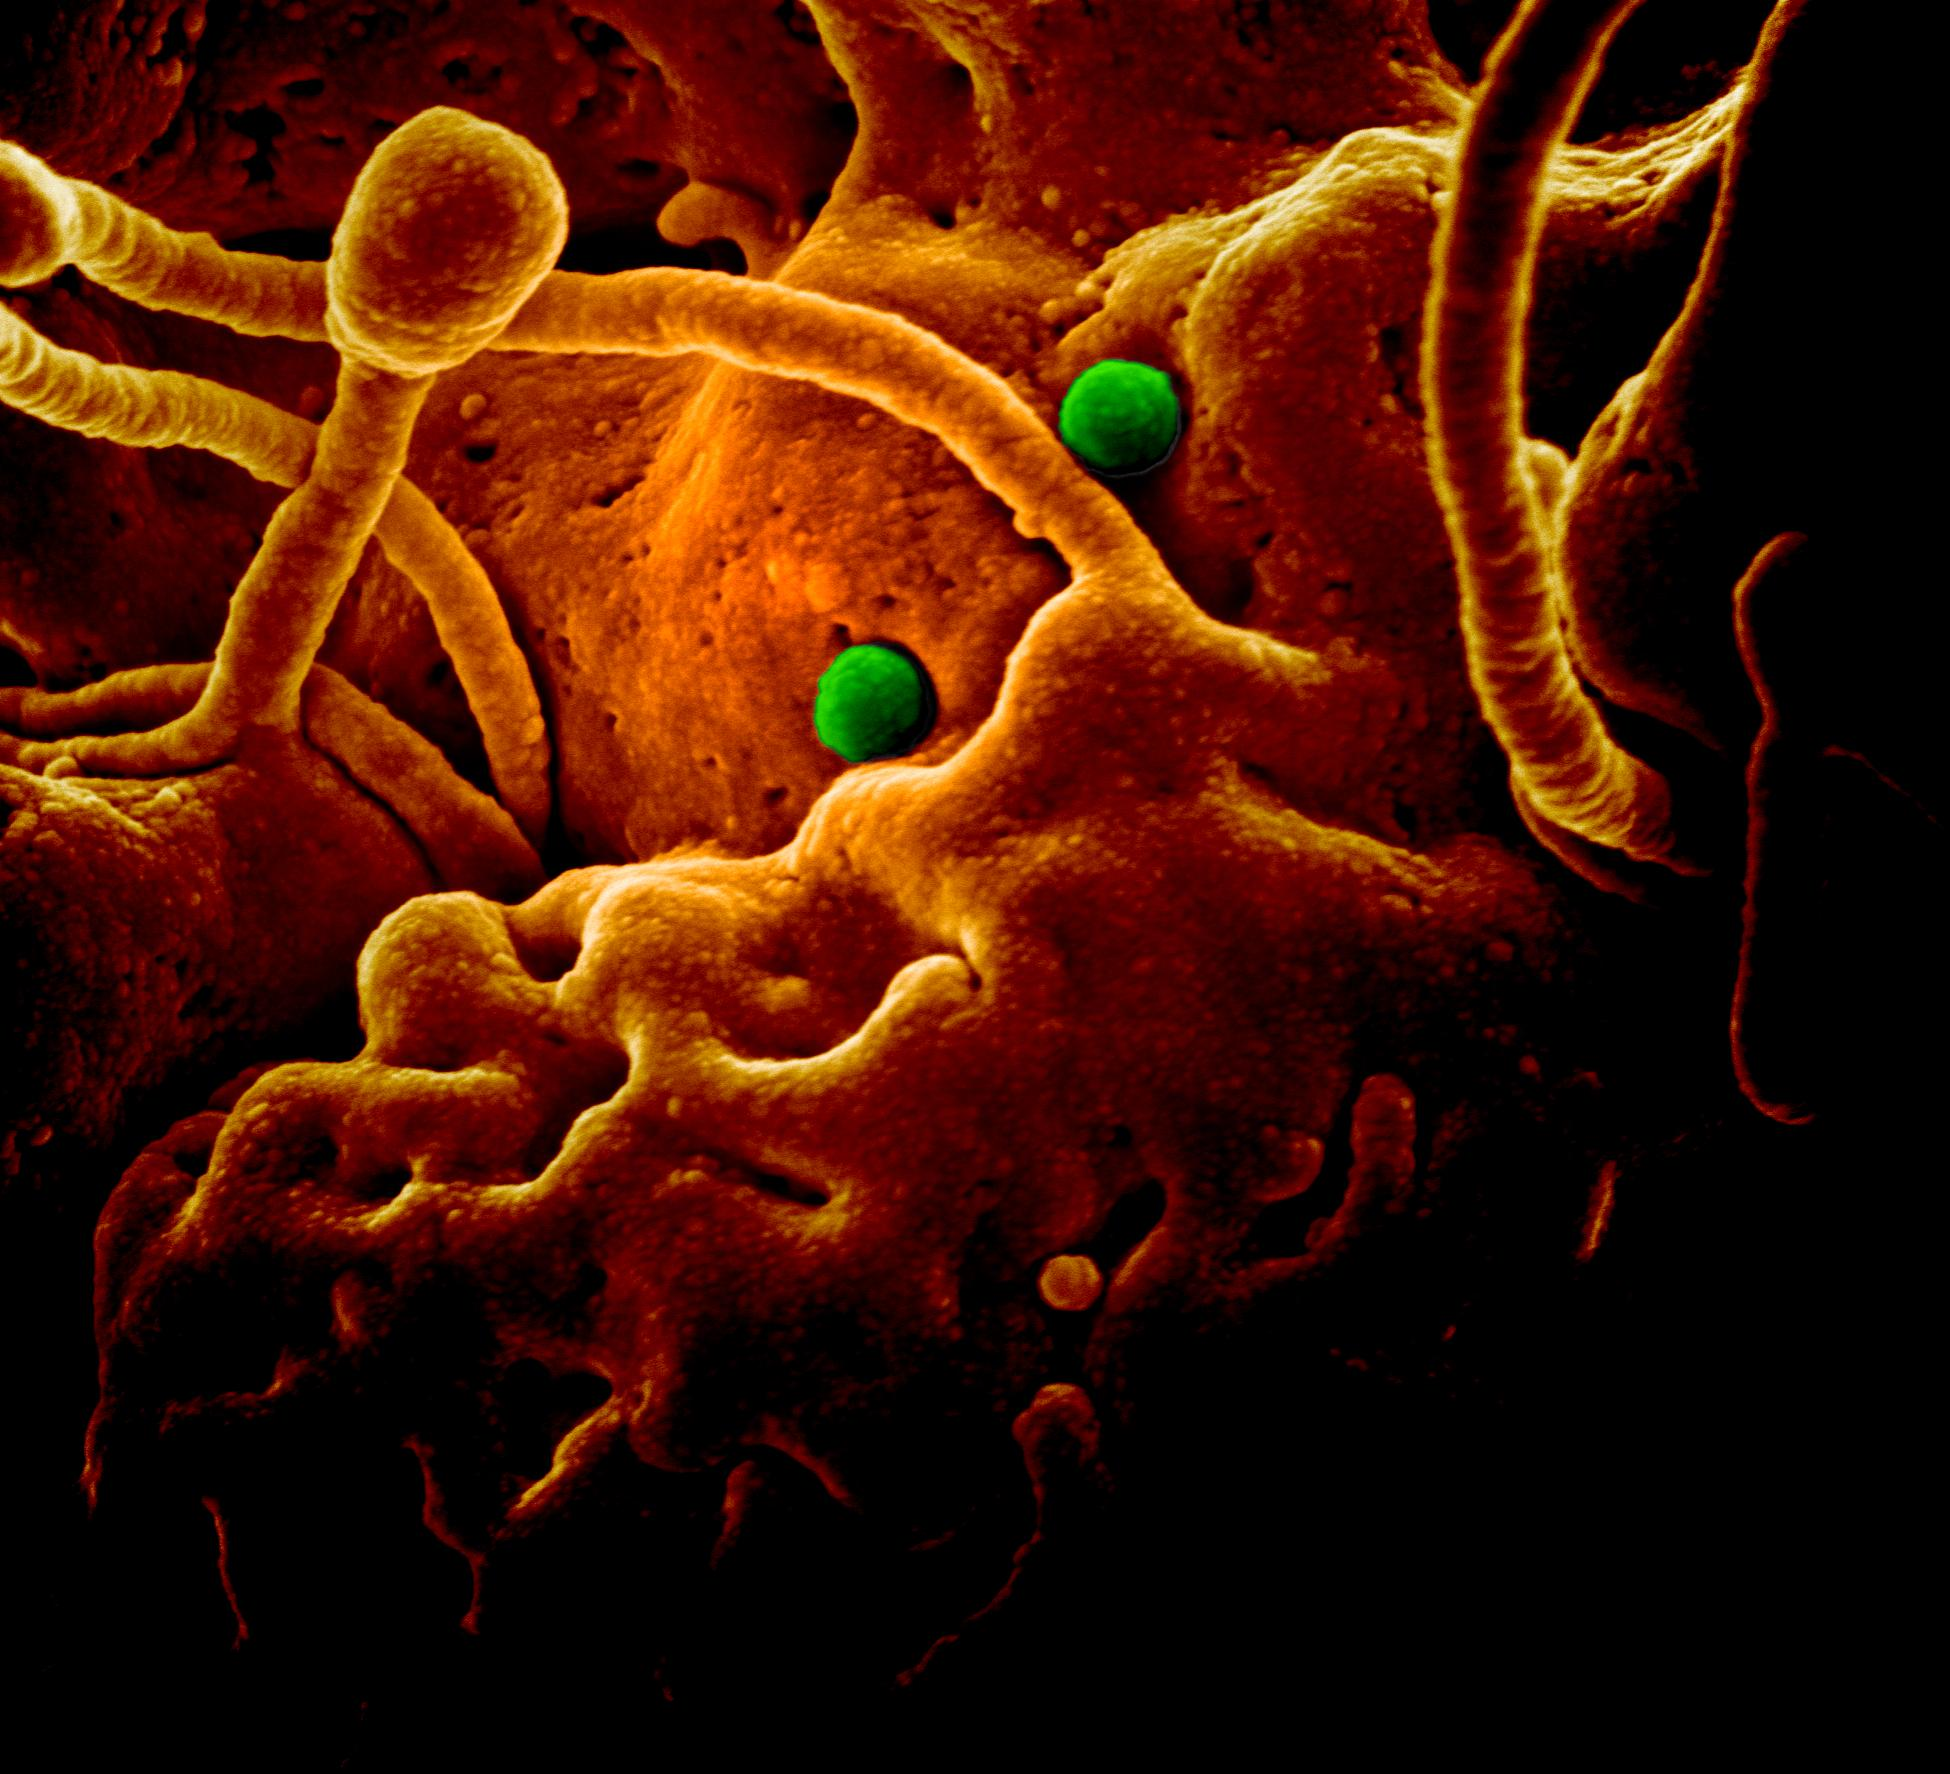COVID19: (311, 139, 1478, 879)
